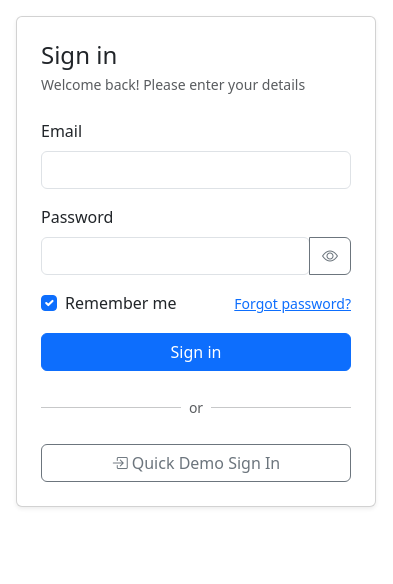
should show an error for wrong credentials
Type "ada@example.com" into the field labelled "Email". click: (196, 170)
box: [41,151,351,189]
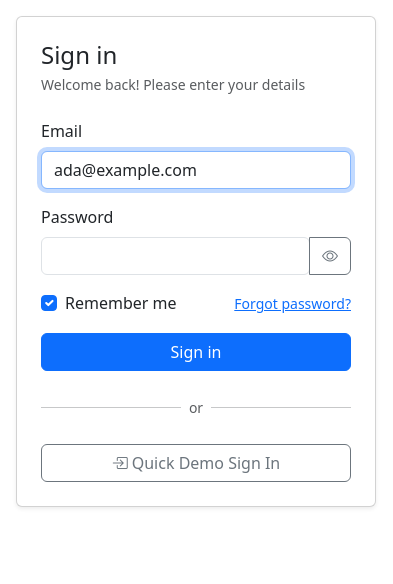
Type "wrong" into the password field labelled "Password". click: (176, 256)
box: [41,237,310,275]
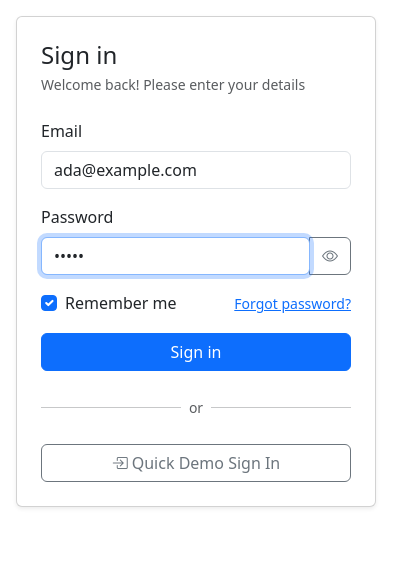
Click the button "Sign in". click: (196, 352)
box: [41,333,351,371]
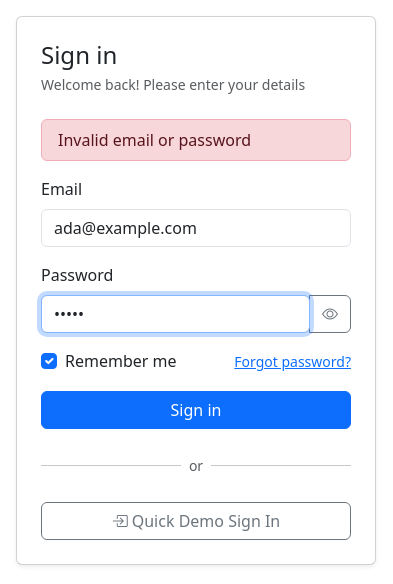
expect the message reads "Invalid email or password": met, box [58,129,251,151]
